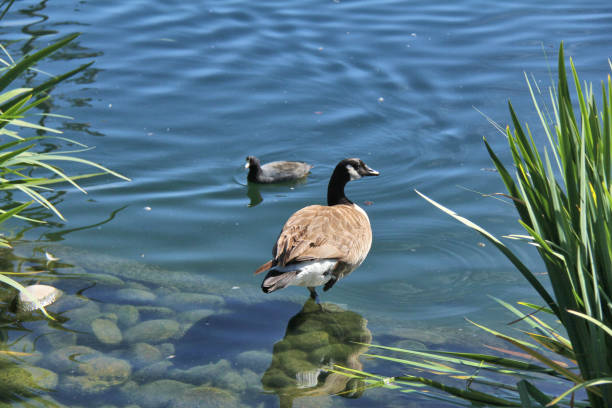goose: (257, 157, 381, 318), (241, 152, 314, 188)
